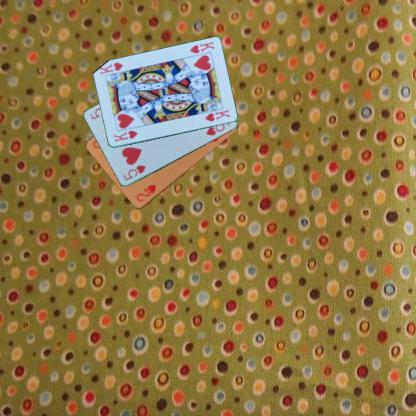2h: (134, 182, 158, 203)
5h: (120, 162, 147, 182)
Kh: (187, 39, 216, 55), (111, 128, 139, 143)
